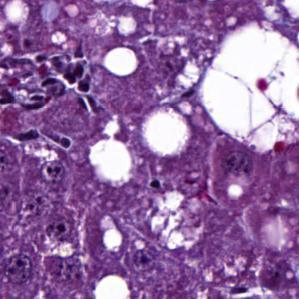ballooning: (198, 21, 296, 158)
